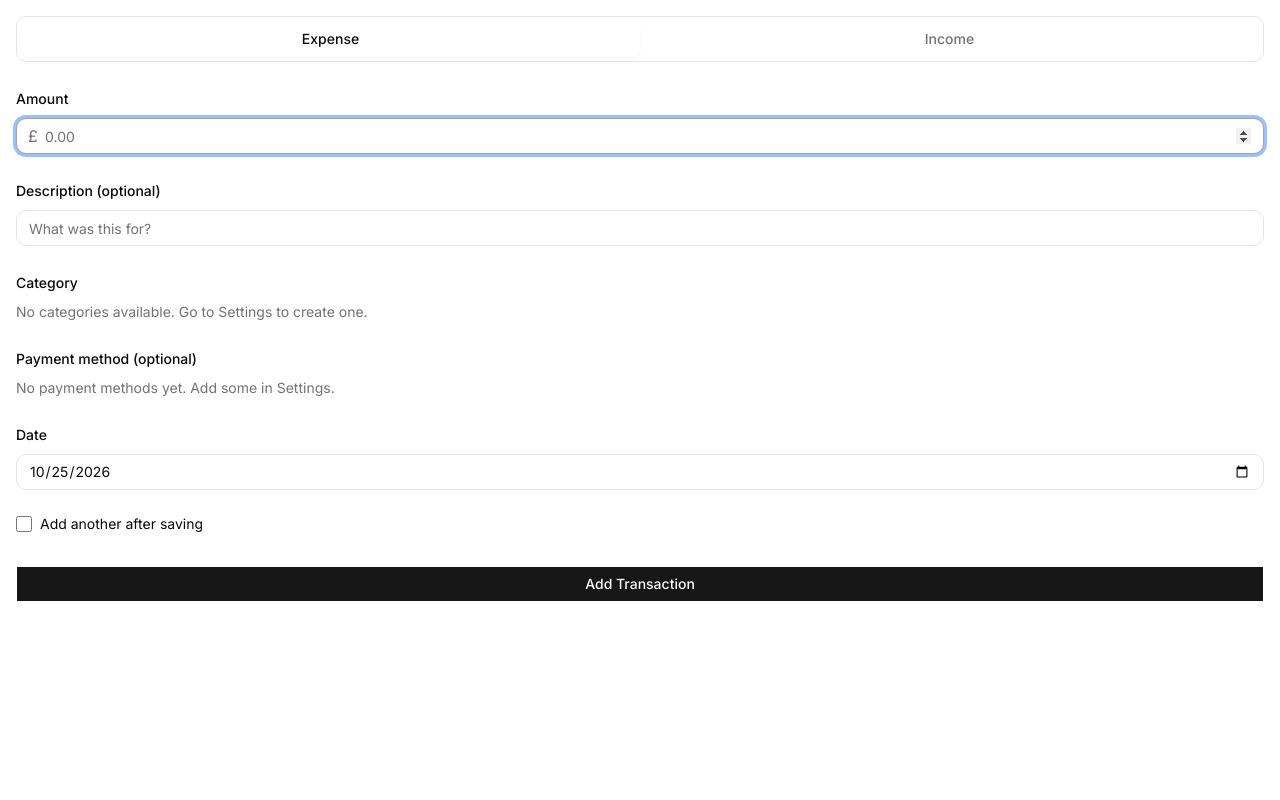
it: TransactionForm — amount validation (KAN-55) › shows inline error after blurring with zero
Type "0" into the number field labelled "Amount" at (640, 136), box top-left (16, 118), bottom-right (1264, 154)
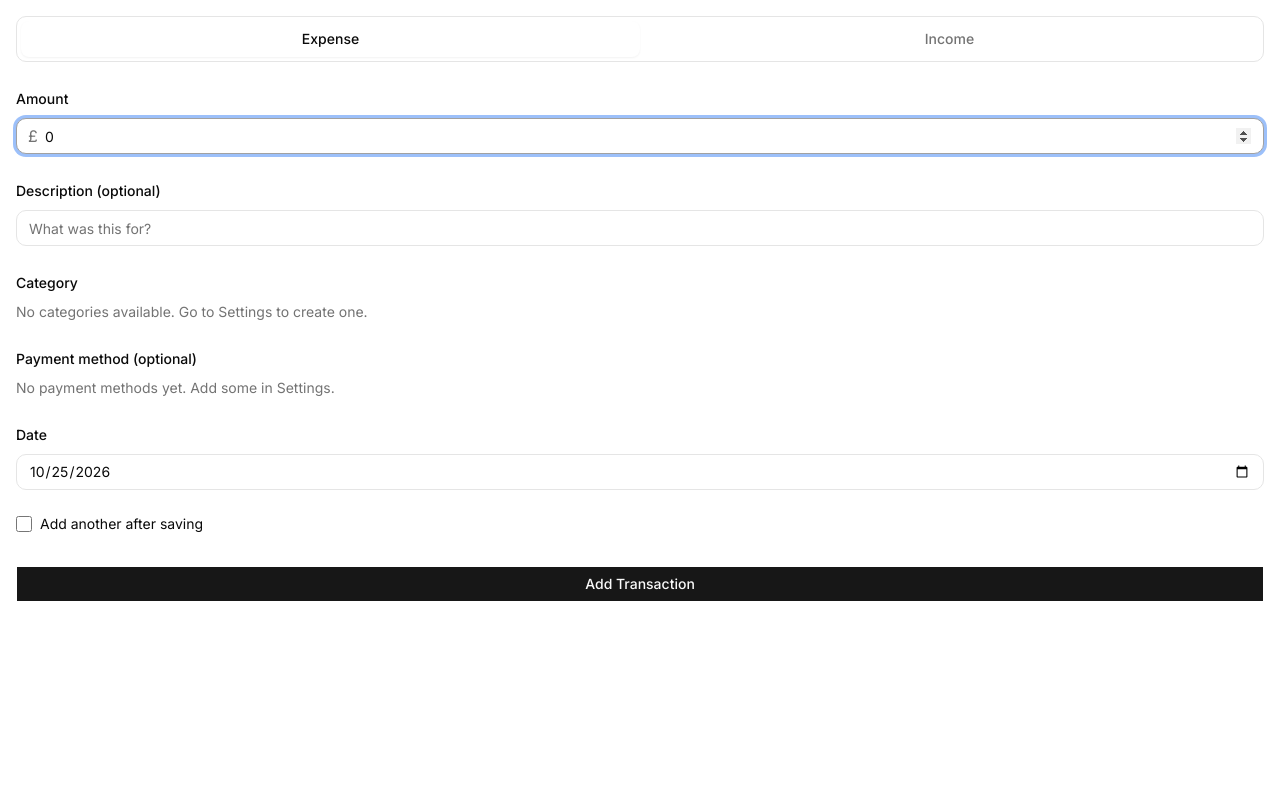
Leave the number field labelled "Amount", box top-left (16, 118), bottom-right (1264, 154)
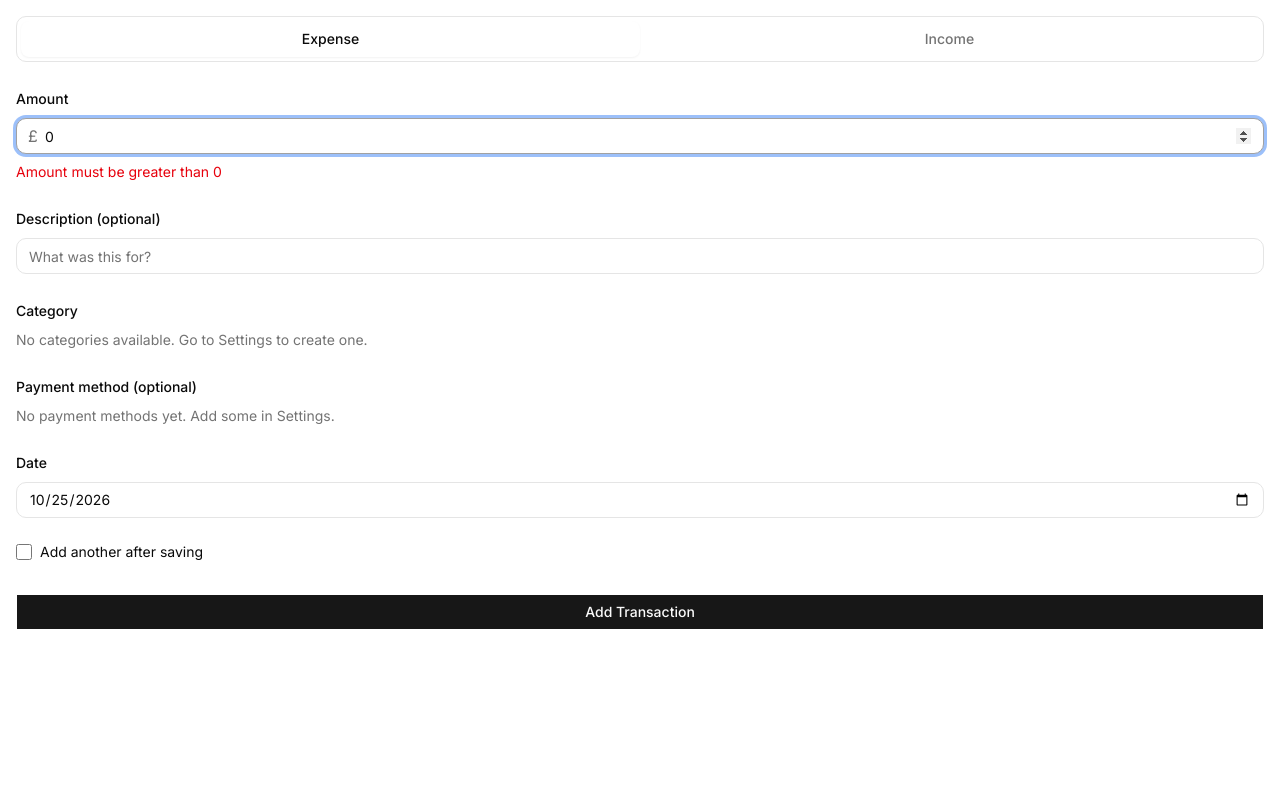
Now the text "Amount must be greater than 0" is shown, box top-left (16, 163), bottom-right (222, 180)
